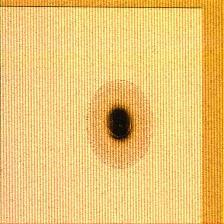PARTICLE: (94, 97, 150, 153)
